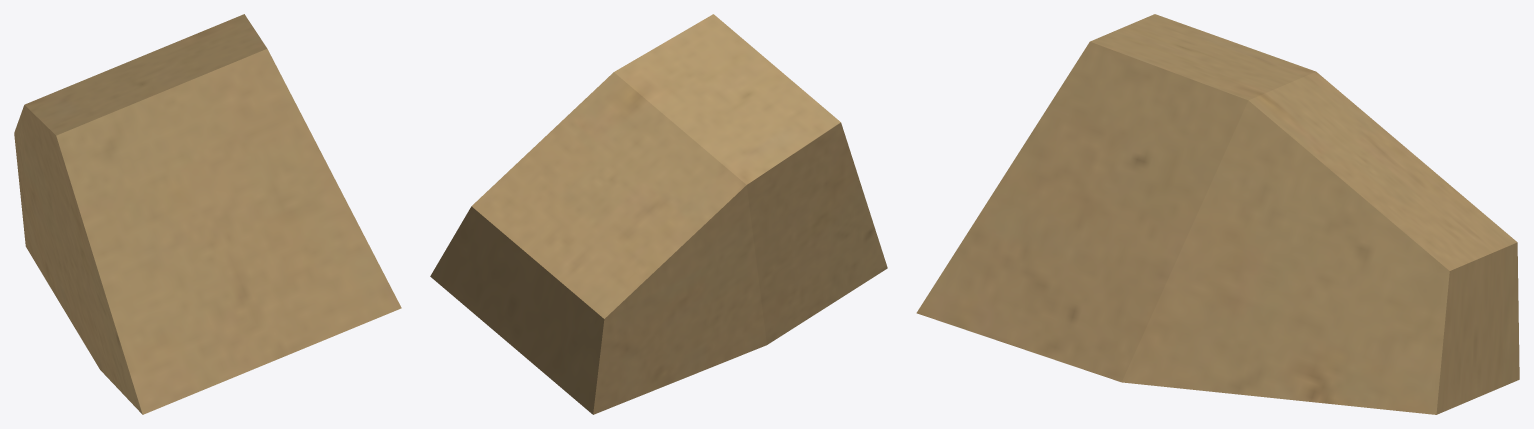
The model's file is part_rock_small.fbx.
3 renders of one model, left to right at view 1: azimuth 30°, elevation 25°; view 2: azimuth 150°, elevation 25°; view 3: azimuth 270°, elevation 25°, orthographic. The views are drawn at different scales.
Parts seen in each view (by area): view 1: Cube.065; view 2: Cube.065; view 3: Cube.065.
Boxes of the visible parts, x1,y1,x2,y2 form: Cube.065: (14,14,401,414); Cube.065: (430,14,887,414); Cube.065: (916,14,1519,414).
Bounding box in the file's own units: 11.97 × 10.34 × 15.35.
Materials: 1 (1 with a texture image).
